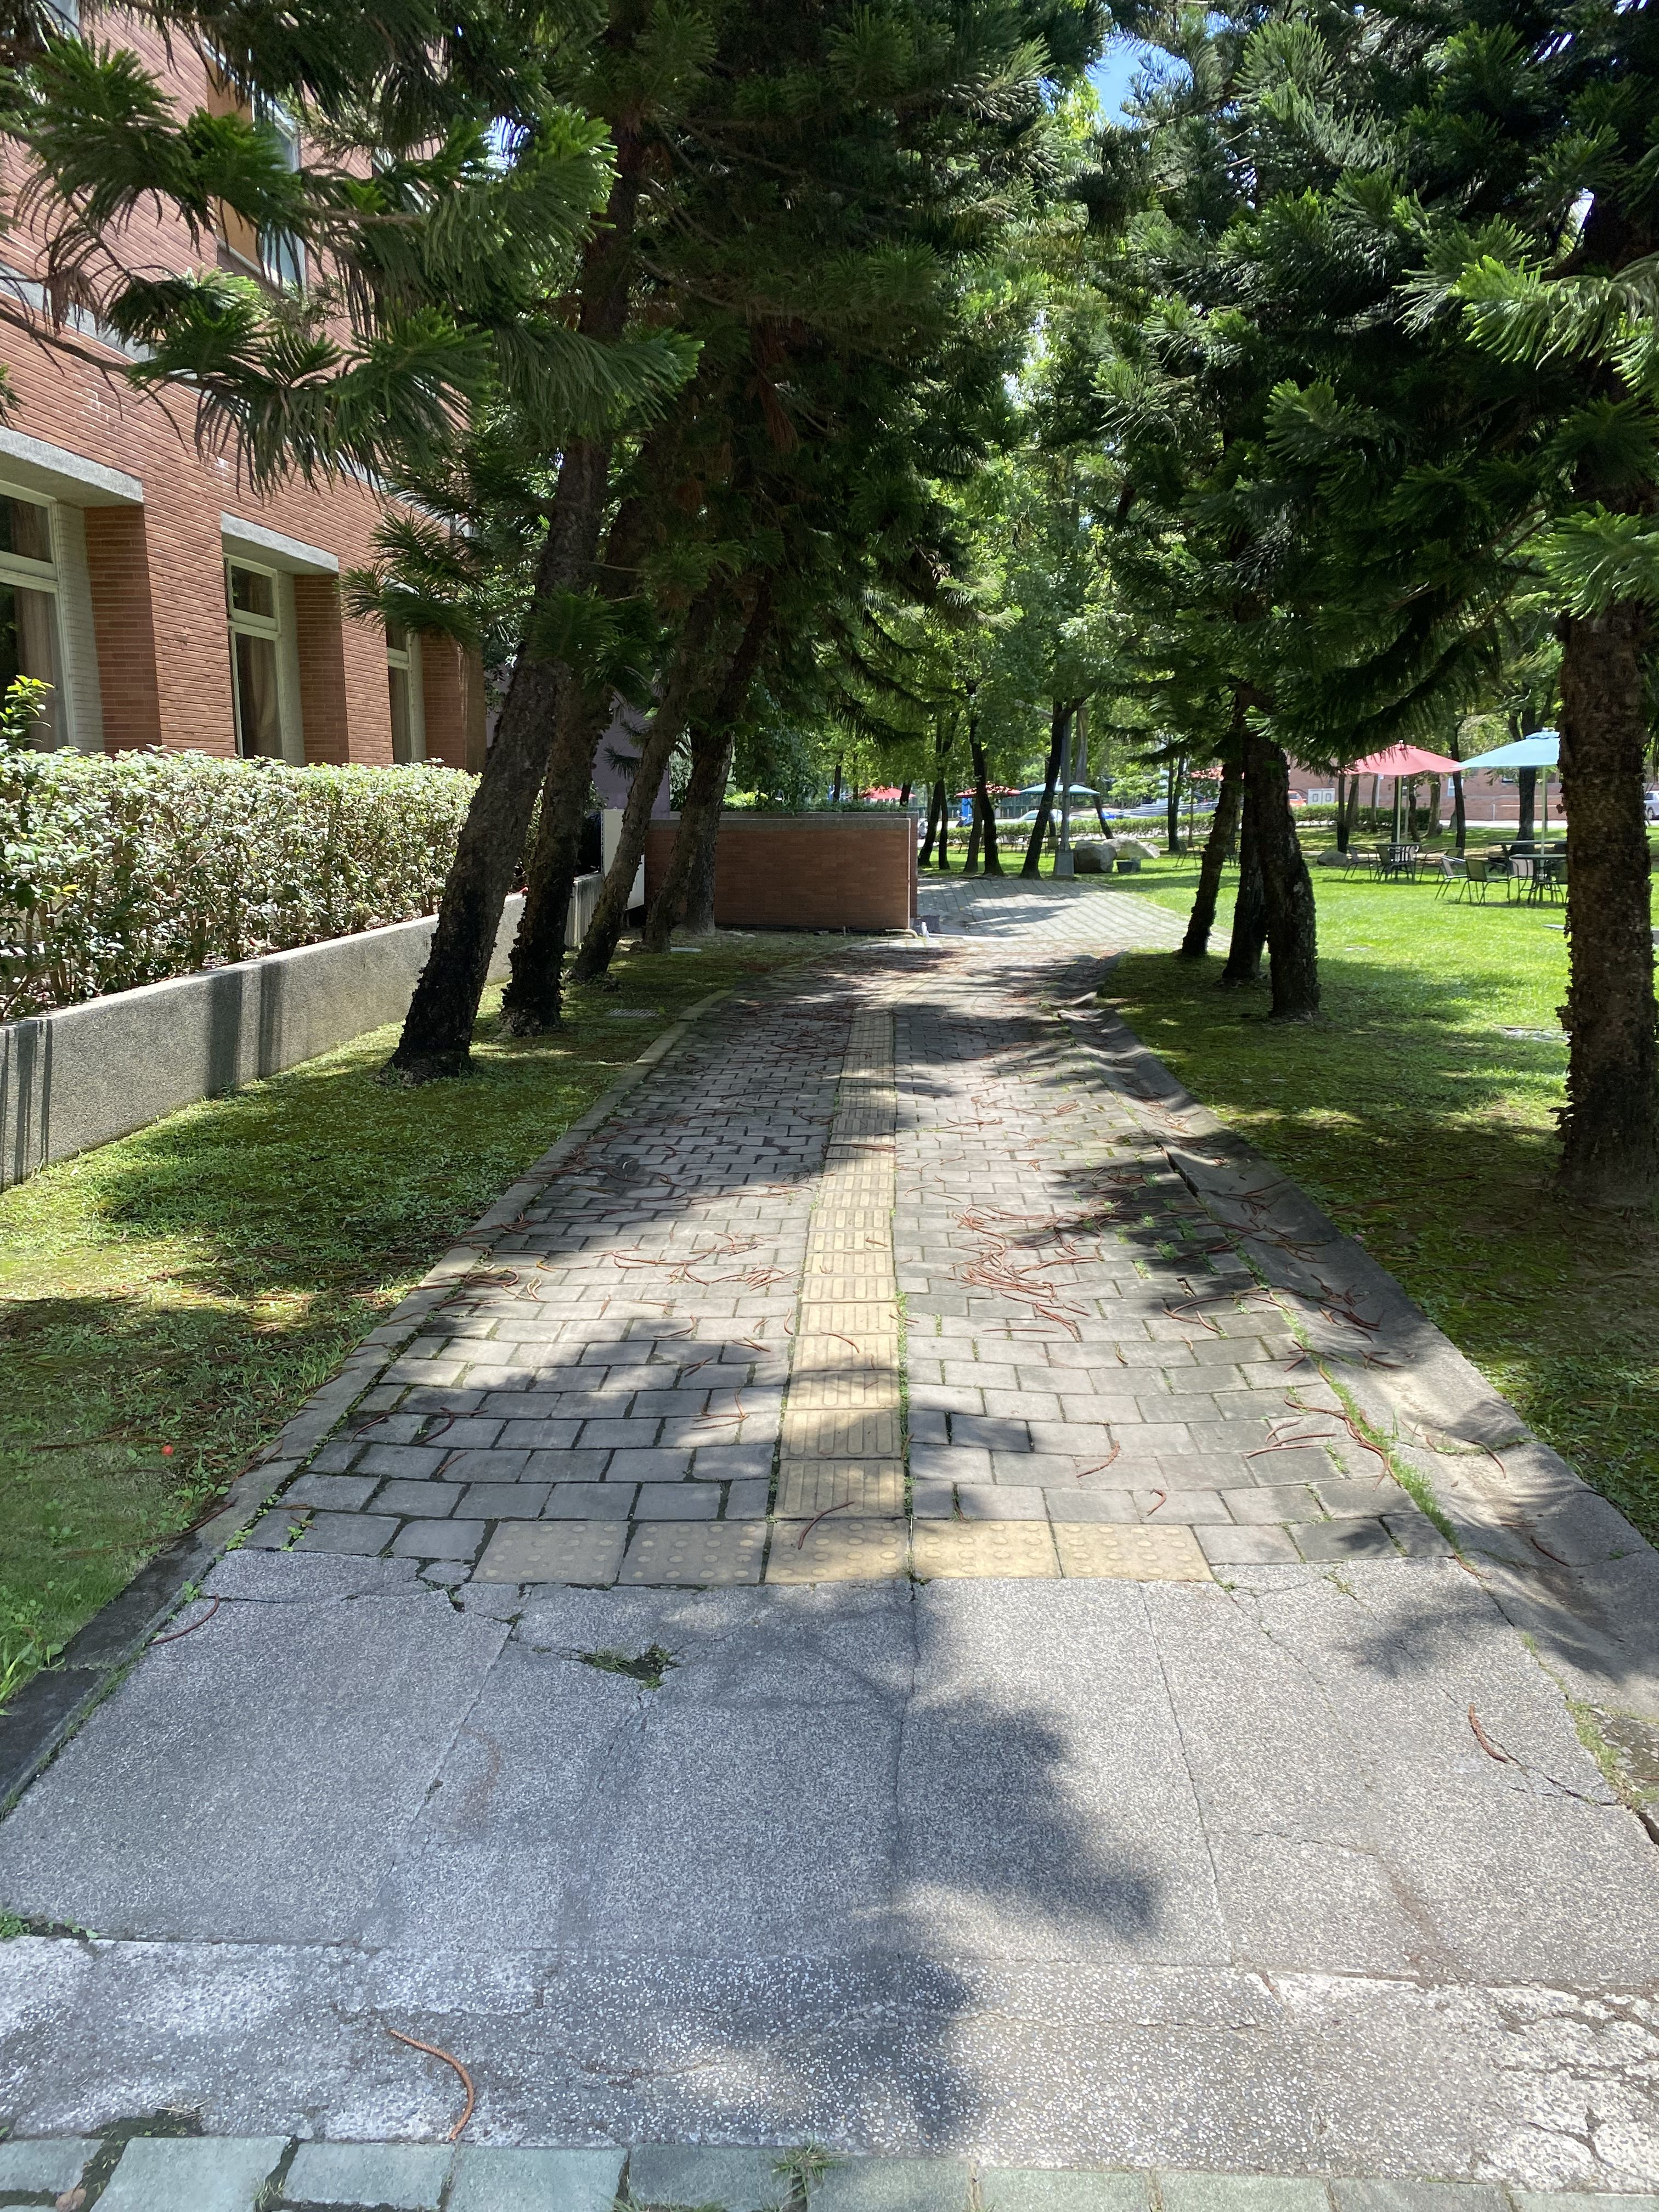sidewalk: (3, 754, 1654, 2210)
